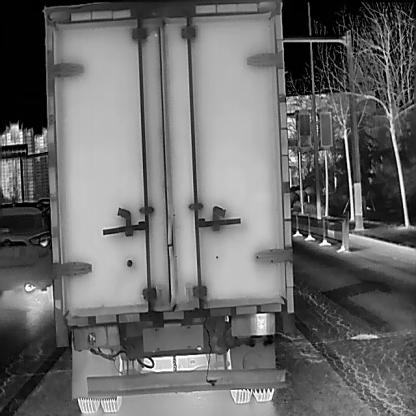car: (0, 195, 51, 297)
truck: (39, 0, 294, 413)
